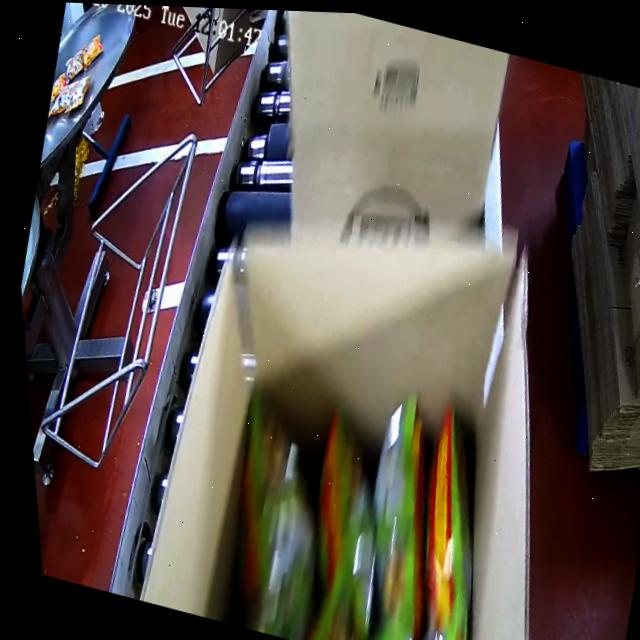YOGURT_HERB: (196, 365, 524, 640)
